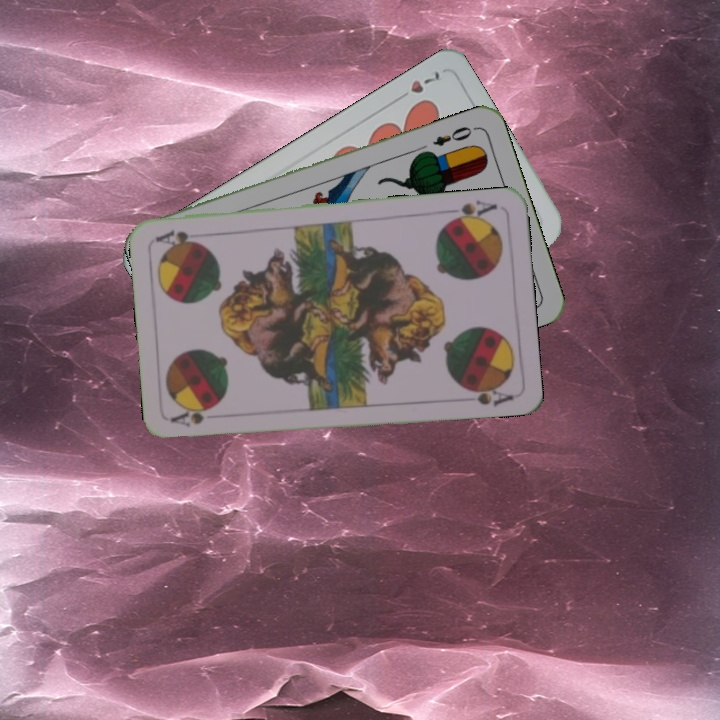EO: (428, 122, 479, 149)
H7: (391, 67, 443, 104)
SA: (442, 196, 499, 226), (168, 404, 216, 429)
